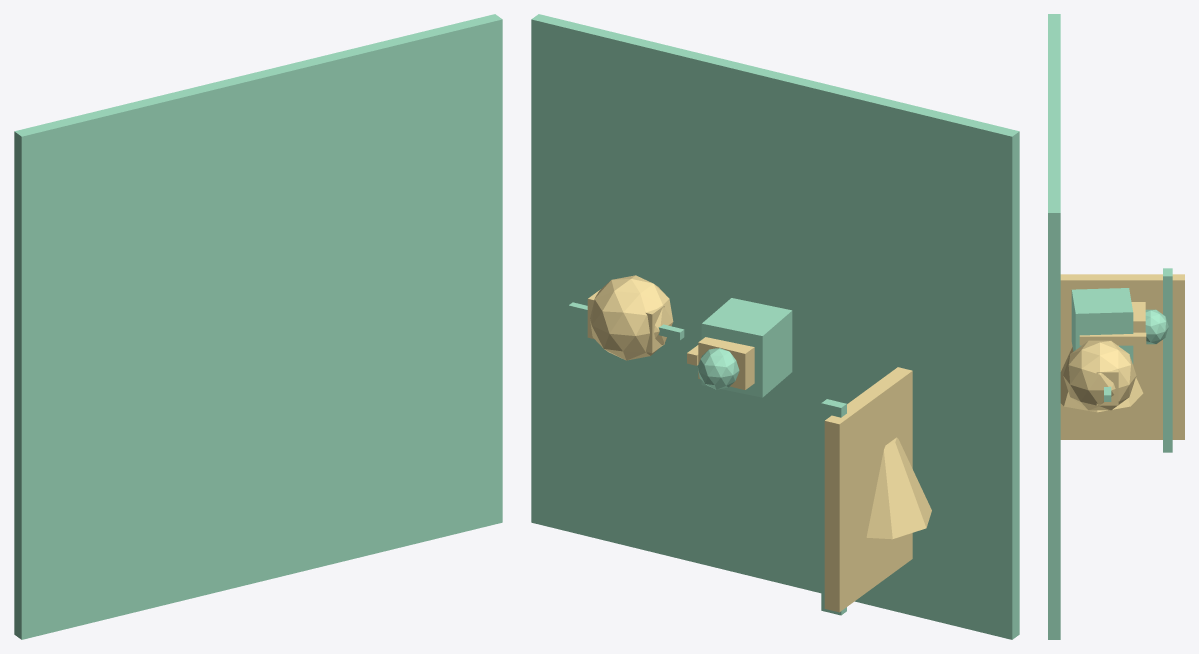
File: shadow-metroid-kit.glb
3 views of the same model, side by side, from view 1: azimuth 30°, elevation 25°; view 2: azimuth 150°, elevation 25°; view 3: azimuth 270°, elevation 25° (orthographic). The views are drawn at different scales.
Visible parts, largest first — view 1: ENVIRONMENT_GROUND; view 2: ENVIRONMENT_GROUND, PROFILE_ENVIRONMENT_DETAIL, PLAYER_BODY, OBSTACLE, ENVIRONMENT_LANDMARK, PROFILE_PLAYER_HEAD, PROFILE_PLAYER_DETAIL, PROFILE_ENVIRONMENT_TRIM, PROFILE_OBSTACLE_DETAIL; view 3: PROFILE_ENVIRONMENT_DETAIL, ENVIRONMENT_GROUND, OBSTACLE, PLAYER_BODY, PROFILE_ENVIRONMENT_TRIM, ENVIRONMENT_LANDMARK, PROFILE_PLAYER_HEAD, PROFILE_PLAYER_TOOL, PROFILE_PLAYER_DETAIL, PROFILE_OBSTACLE_DETAIL.
Part boxes in pixels (<box>): ENVIRONMENT_GROUND: <box>14,14,502,639</box>; ENVIRONMENT_GROUND: <box>531,14,1019,639</box>; PROFILE_ENVIRONMENT_DETAIL: <box>824,367,912,612</box>; PLAYER_BODY: <box>701,298,792,397</box>; OBSTACLE: <box>590,275,673,360</box>; ENVIRONMENT_LANDMARK: <box>866,437,931,539</box>; PROFILE_PLAYER_HEAD: <box>697,348,739,389</box>; PROFILE_PLAYER_DETAIL: <box>698,337,754,389</box>; PROFILE_ENVIRONMENT_TRIM: <box>821,399,846,615</box>; PROFILE_OBSTACLE_DETAIL: <box>587,289,664,353</box>; PROFILE_ENVIRONMENT_DETAIL: <box>1060,274,1184,439</box>; ENVIRONMENT_GROUND: <box>1048,14,1060,639</box>; OBSTACLE: <box>1063,340,1136,410</box>; PLAYER_BODY: <box>1071,288,1133,363</box>; PROFILE_ENVIRONMENT_TRIM: <box>1163,268,1172,452</box>; ENVIRONMENT_LANDMARK: <box>1060,347,1143,412</box>; PROFILE_PLAYER_HEAD: <box>1145,309,1168,344</box>; PROFILE_PLAYER_TOOL: <box>1079,332,1146,345</box>; PROFILE_PLAYER_DETAIL: <box>1131,302,1145,351</box>; PROFILE_OBSTACLE_DETAIL: <box>1096,345,1118,405</box>.
Bounding box in the file's own units: 9 × 9 × 2.62.
